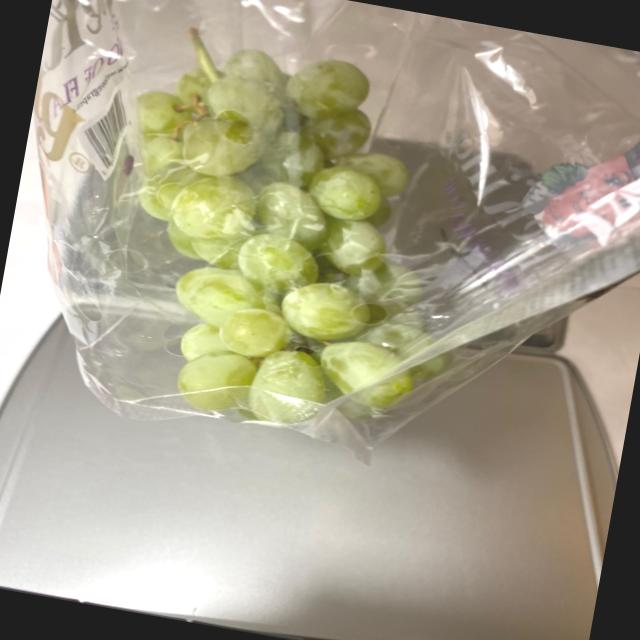grapes: (75, 12, 496, 434)
